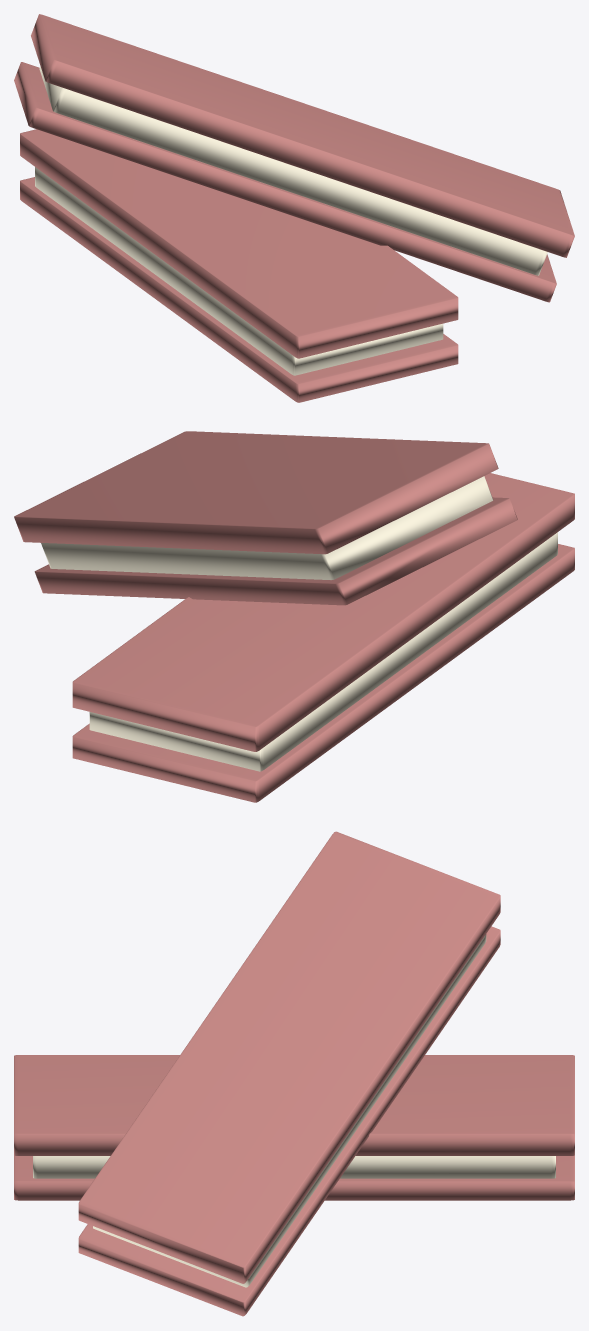
File: Biskuvi.fbx
3 renders of one model, top to bottom at view 1: azimuth 30°, elevation 25°; view 2: azimuth 150°, elevation 25°; view 3: azimuth 270°, elevation 25°, orthographic. The views are drawn at different scales.
Parts seen in each view (by area): view 1: Biskuvi; view 2: Biskuvi; view 3: Biskuvi.
Boxes of the visible parts, x1,y1,x2,y2 form: Biskuvi: (14, 14, 574, 402); Biskuvi: (14, 431, 574, 802); Biskuvi: (14, 831, 574, 1316).
Bounding box in the file's own units: 758 × 402 × 754.
